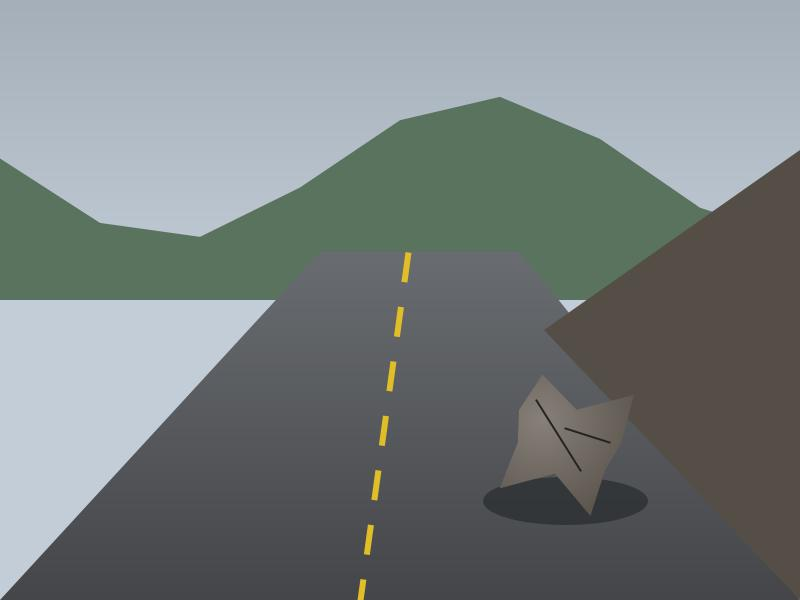ROAD_OBSTACLE: (493, 373, 638, 512)
